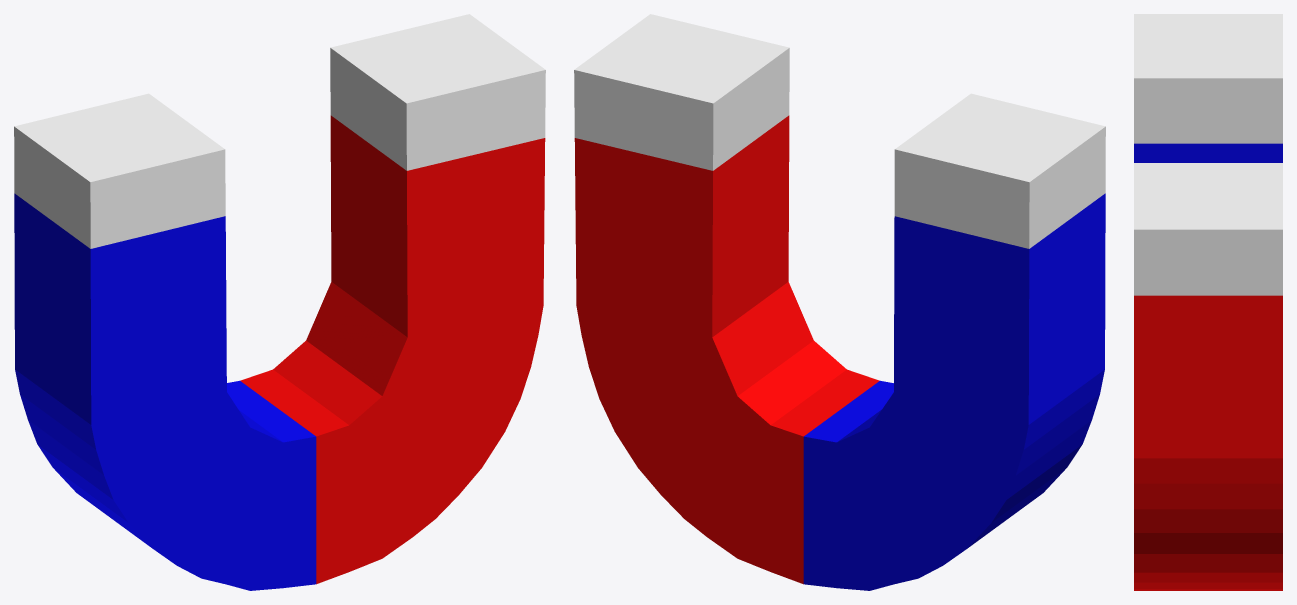
Rendered from Magnet.fbx.
3 renders of one model, left to right at view 1: azimuth 30°, elevation 25°; view 2: azimuth 150°, elevation 25°; view 3: azimuth 270°, elevation 25°, orthographic. The views are drawn at different scales.
Visible parts, largest first — view 1: Cube; view 2: Cube; view 3: Cube.
Part boxes in pixels (x1=…): Cube: x1=14, y1=14, x2=545, y2=590; Cube: x1=574, y1=14, x2=1105, y2=590; Cube: x1=1134, y1=14, x2=1282, y2=590.
Bounding box in the file's own units: 356 × 343 × 103.
